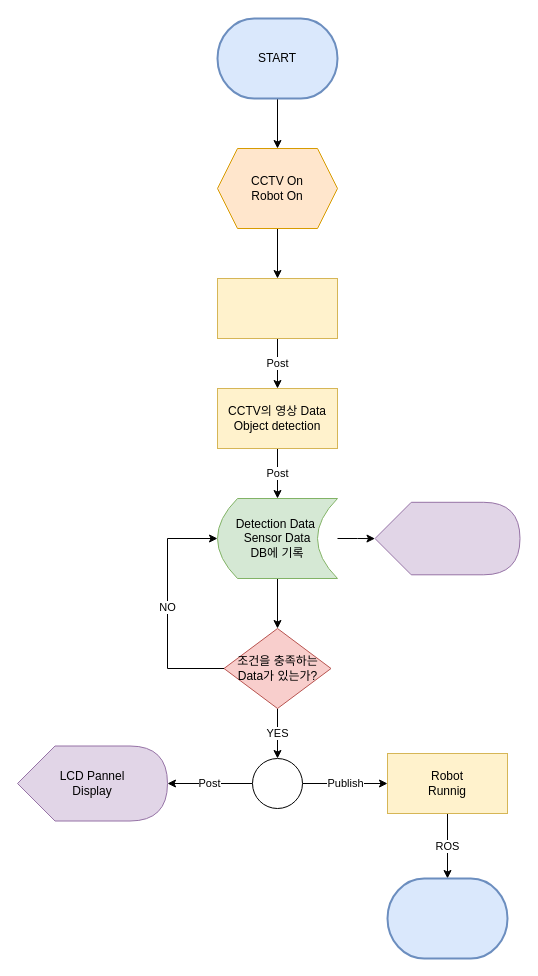
Image size: 538x976. Some labels were removed from this diagram. The box of each missing label's shape, as (x1, y1, x2, y2) in pixels:
DashBoard Display: (374, 501, 520, 575)
RESCUE: (386, 877, 508, 959)
영상 및 Sensor의 Data Web-Server로 전송: (216, 278, 338, 338)
